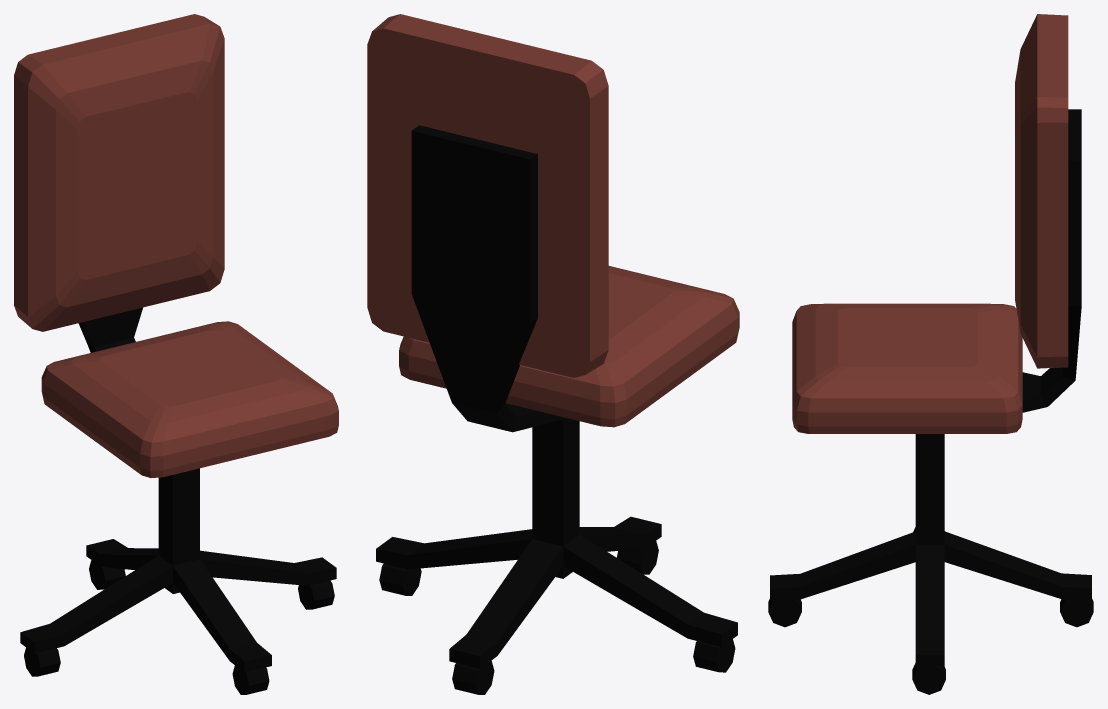
File: chair_reception.fbx
3 views of the same model, side by side, from view 1: azimuth 30°, elevation 25°; view 2: azimuth 150°, elevation 25°; view 3: azimuth 270°, elevation 25° (orthographic). The views are drawn at different scales.
Visible parts, largest first — view 1: H_Chair_Reception_1; view 2: H_Chair_Reception_1; view 3: H_Chair_Reception_1.
Boxes of the visible parts, bbox=[...] form: H_Chair_Reception_1: bbox=[14, 14, 338, 694]; H_Chair_Reception_1: bbox=[367, 14, 739, 694]; H_Chair_Reception_1: bbox=[768, 14, 1093, 694].
Size of the model in its own units: 380 by 349 by 671.
